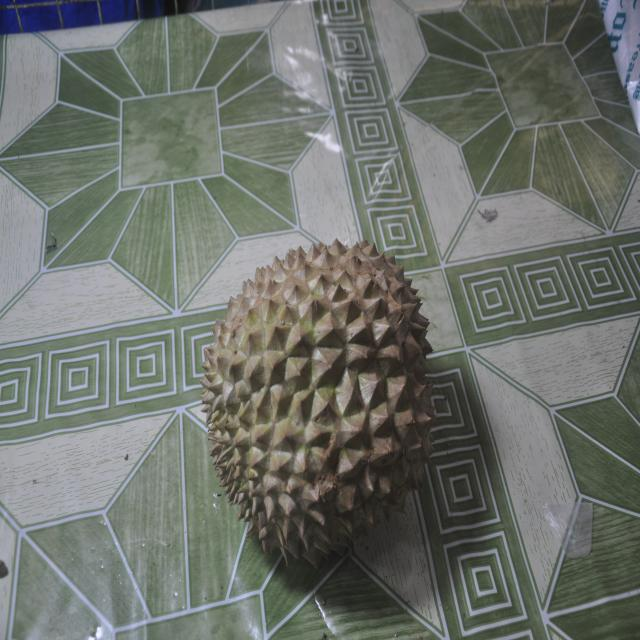mature: (201, 240, 435, 566)
